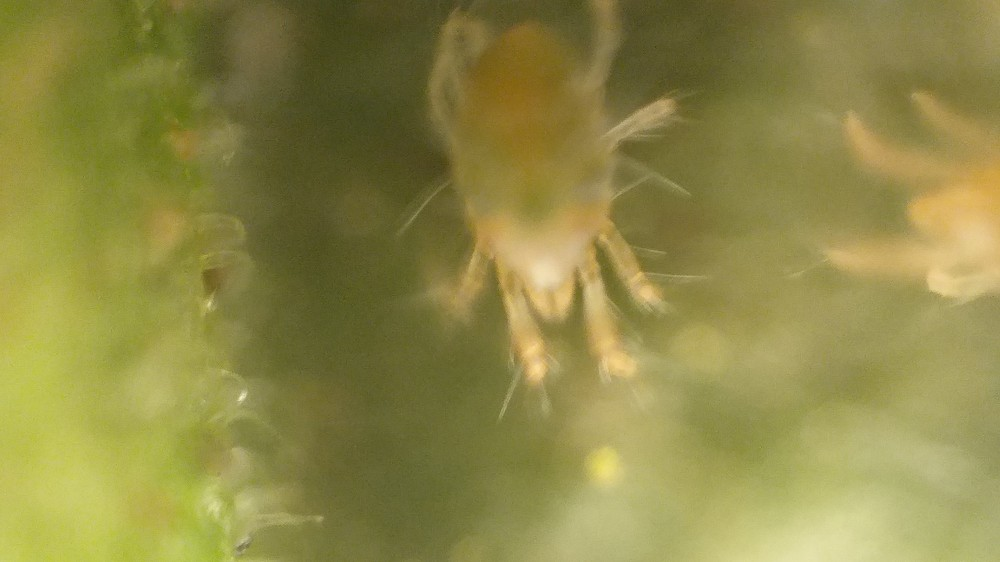Aracnido Rojo: (405, 13, 699, 421)
